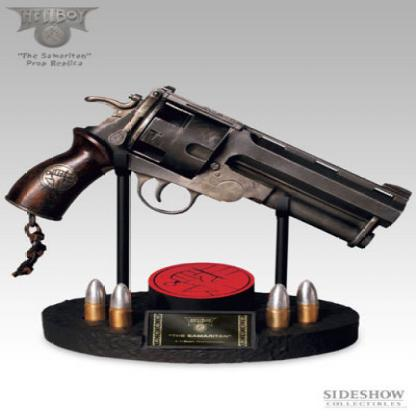Guns: (0, 78, 415, 252)
